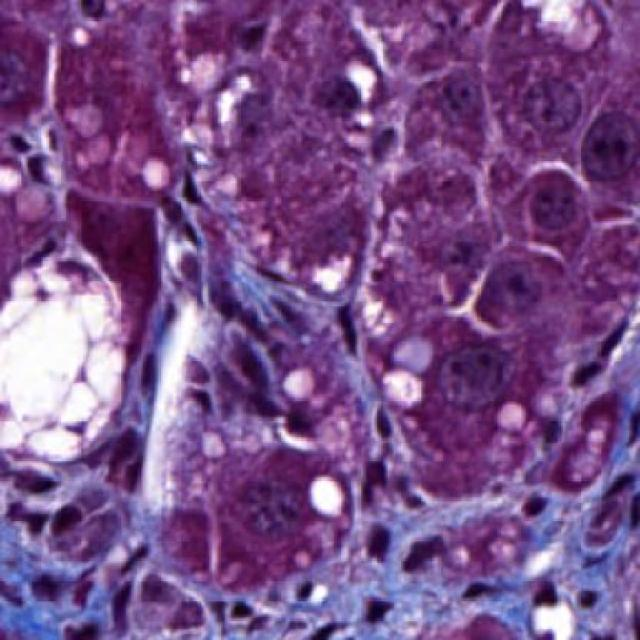ballooning: (8, 238, 128, 478)
